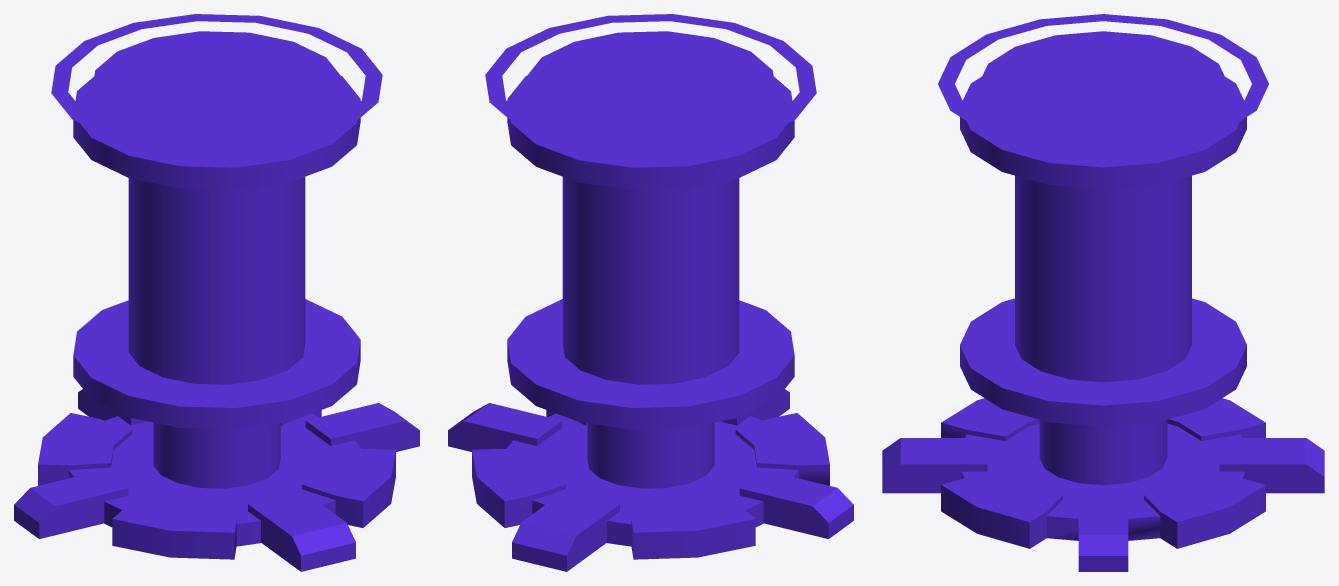
The model's file is Defender03.fbx.
The picture shows the model from 3 angles, left to right: view 1: azimuth 30°, elevation 25°; view 2: azimuth 150°, elevation 25°; view 3: azimuth 270°, elevation 25°; orthographic projection.
Visible parts, largest first — view 1: Sphere.014; view 2: Sphere.014; view 3: Sphere.014.
Part boxes in pixels (x1,y1,x2,y2): Sphere.014: (14, 14, 419, 571); Sphere.014: (448, 14, 853, 571); Sphere.014: (882, 14, 1324, 571).
Size of the model in its own units: 349 by 354 by 350.
